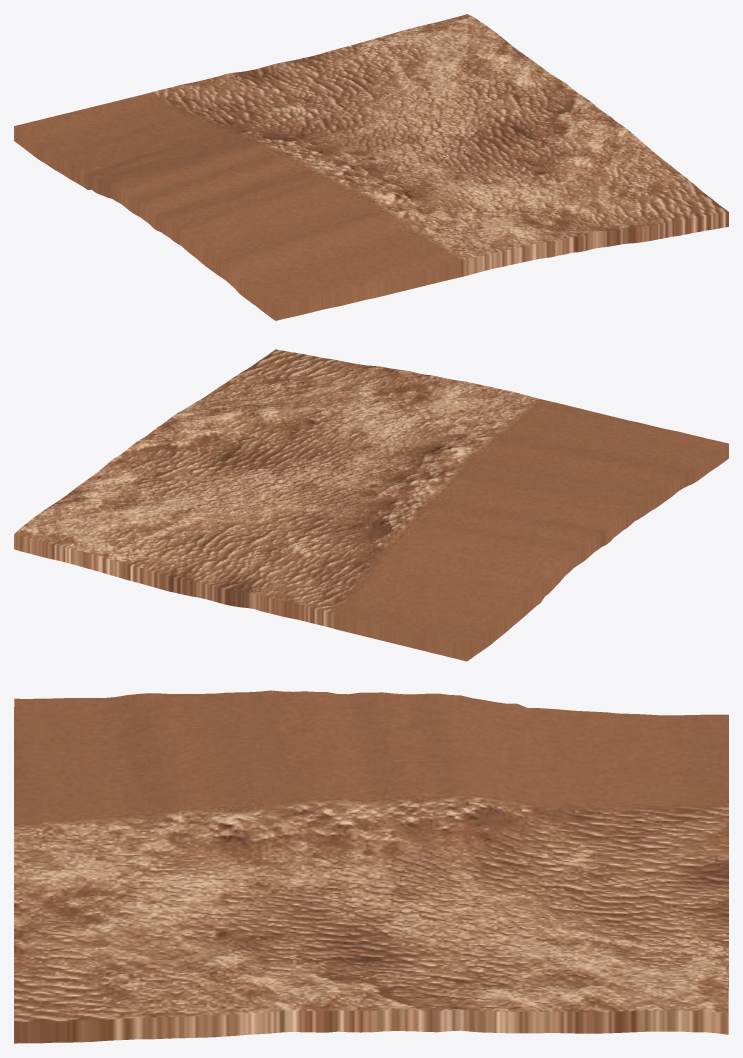
The picture shows the model from 3 angles, top to bottom: view 1: azimuth 30°, elevation 25°; view 2: azimuth 150°, elevation 25°; view 3: azimuth 270°, elevation 25°; orthographic projection. The views are drawn at different scales.
Visible parts, largest first — view 1: L4_5_9; view 2: L4_5_9; view 3: L4_5_9.
Part boxes in pixels (x1=…): L4_5_9: x1=14, y1=14, x2=728, y2=320; L4_5_9: x1=14, y1=349, x2=728, y2=661; L4_5_9: x1=14, y1=690, x2=728, y2=1043.
Bounding box in the file's own units: 901 × 71.12 × 901.
Materials: 1 (1 with a texture image).
